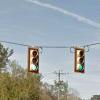Traffic light: (23, 41, 46, 81)
